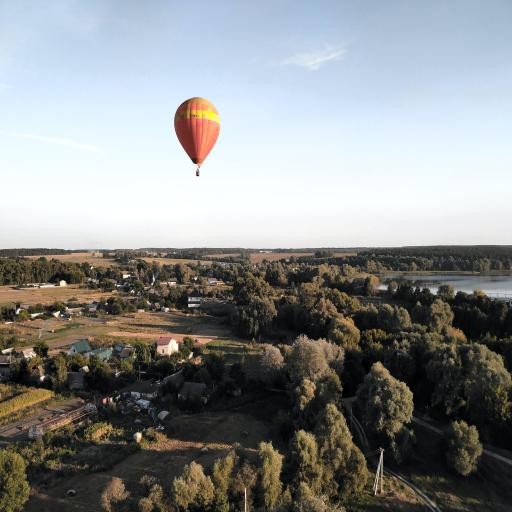hot air ballon: (174, 97, 221, 177)
